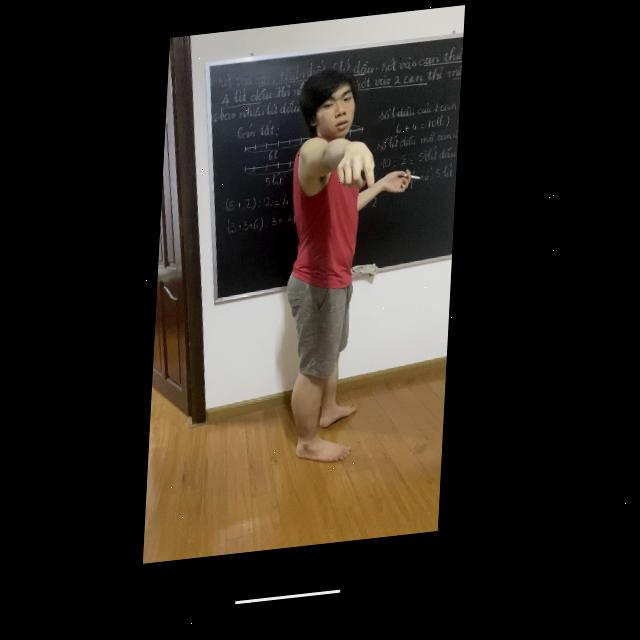cigarette: (406, 183, 422, 191)
